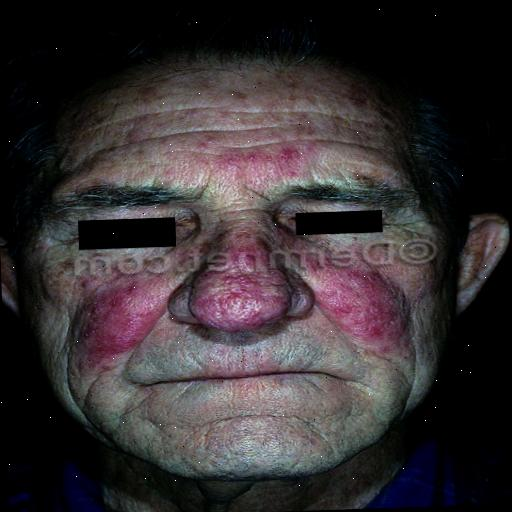Skin_Lesion: (82, 267, 162, 371), (188, 238, 272, 336), (310, 268, 399, 340), (25, 452, 113, 512), (352, 452, 436, 506), (132, 384, 166, 434), (276, 135, 313, 175), (222, 148, 262, 178), (301, 432, 324, 450)
